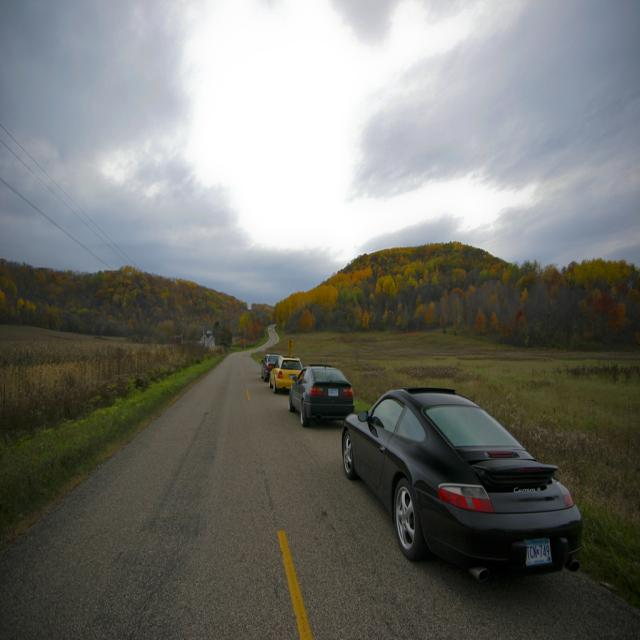car: (343, 390, 579, 582)
